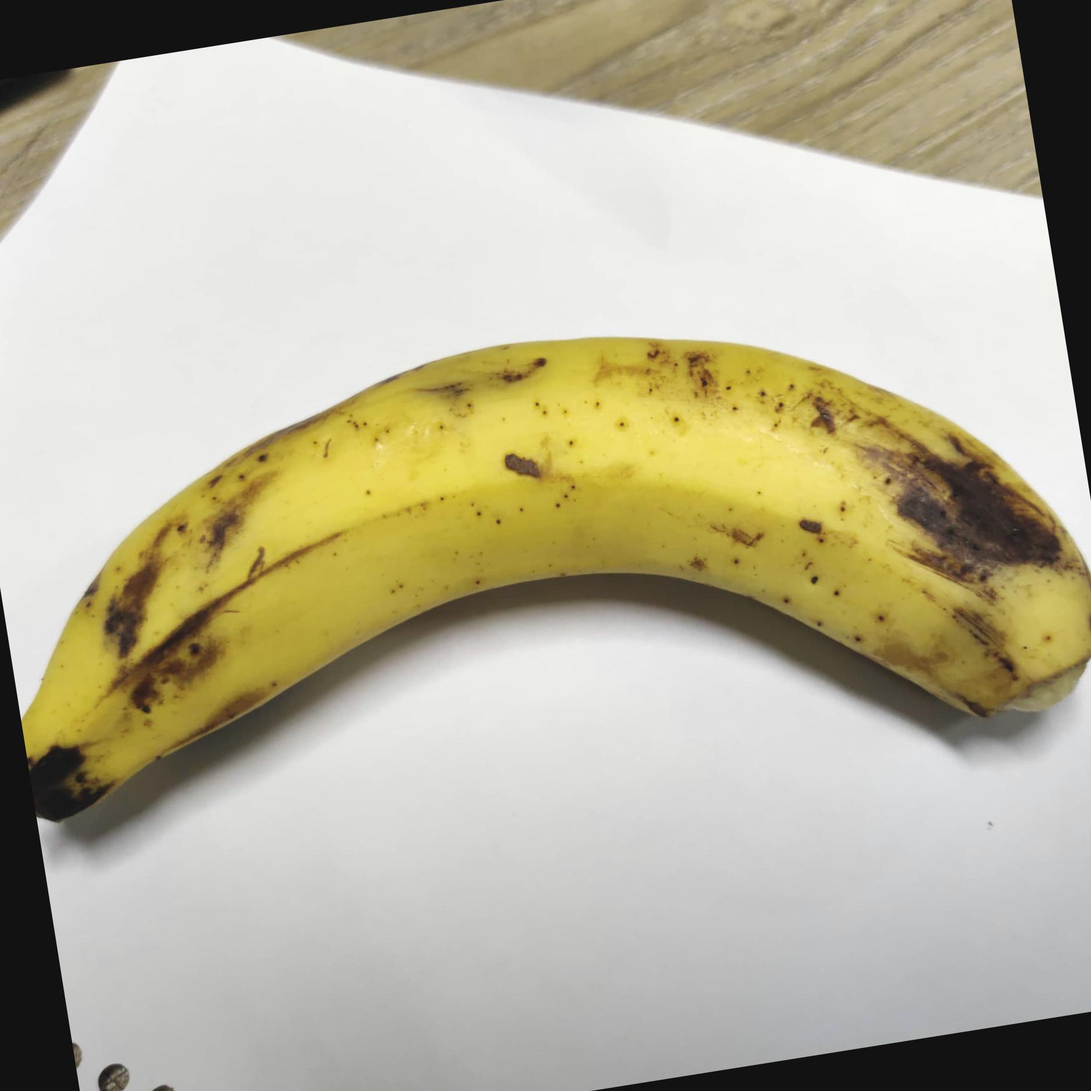Banana Ripe: (8, 250, 1091, 948)
